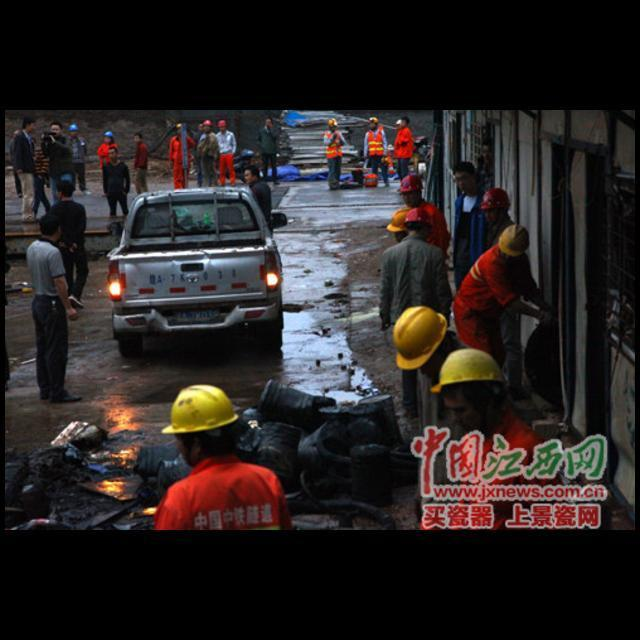helmet: (156, 376, 247, 444), (422, 328, 512, 394), (388, 300, 460, 374), (492, 218, 542, 262), (379, 200, 426, 238), (478, 180, 517, 222), (395, 168, 438, 201), (404, 202, 440, 236), (446, 155, 488, 183), (352, 111, 391, 130), (324, 111, 346, 141), (213, 111, 234, 137), (202, 111, 222, 133), (62, 119, 83, 137), (98, 122, 116, 140)
safety_vest: (422, 406, 584, 534), (142, 450, 304, 534), (452, 232, 544, 366), (389, 192, 449, 268), (208, 124, 247, 188), (164, 128, 196, 192), (383, 121, 422, 170), (361, 129, 394, 179), (58, 128, 88, 174), (319, 115, 345, 163), (94, 136, 124, 170)
